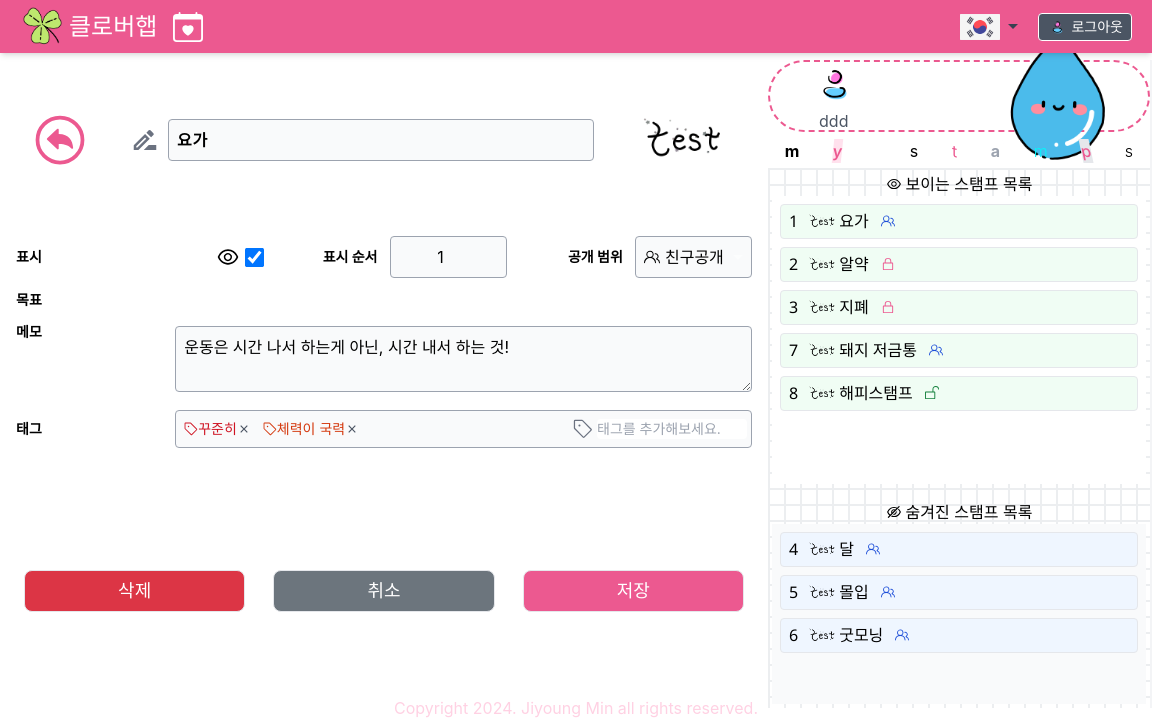
Test case: UserStamp Update Page › 본인 스탬프인 경우 › 삭제 버튼 확인(성공)
Check: the element with id "displayUserStampList" shows "요가", box x1=772 y1=196 x2=1146 y2=484
Note: 삭제 버튼 클릭
Click the button with id "userStamp-deleteButton": (135, 591) x1=24 y1=570 x2=245 y2=612
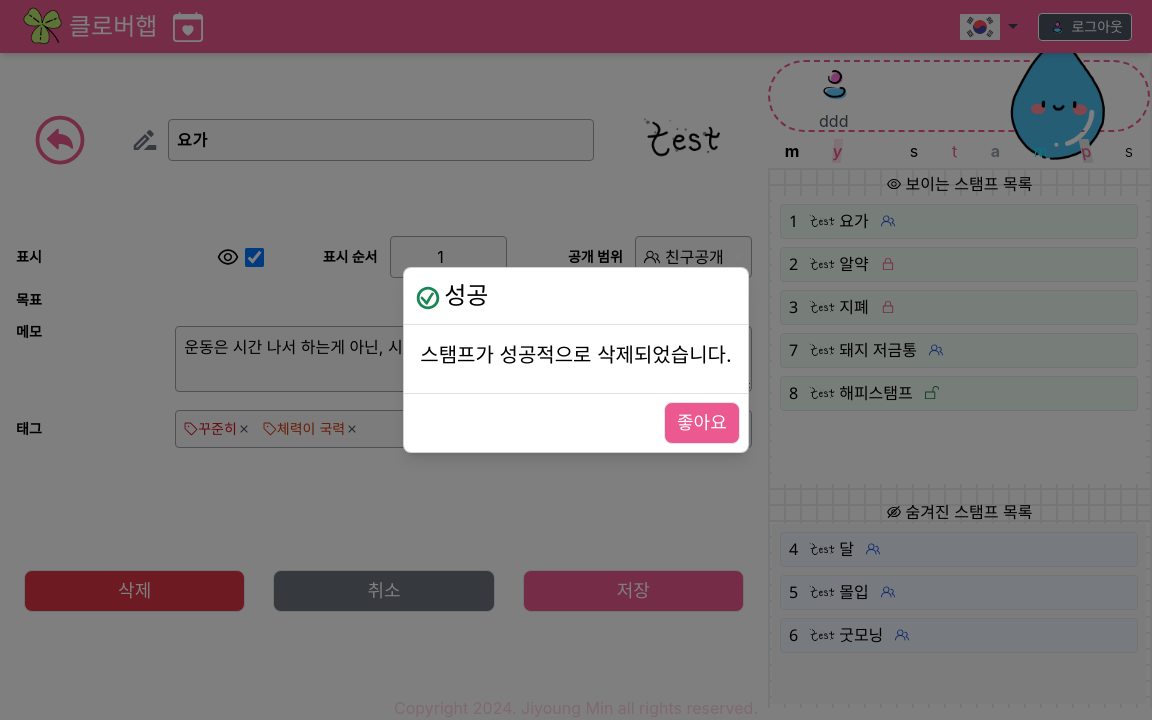
Click the button with id "commonDialog-ok": (702, 423) x1=664 y1=402 x2=740 y2=444
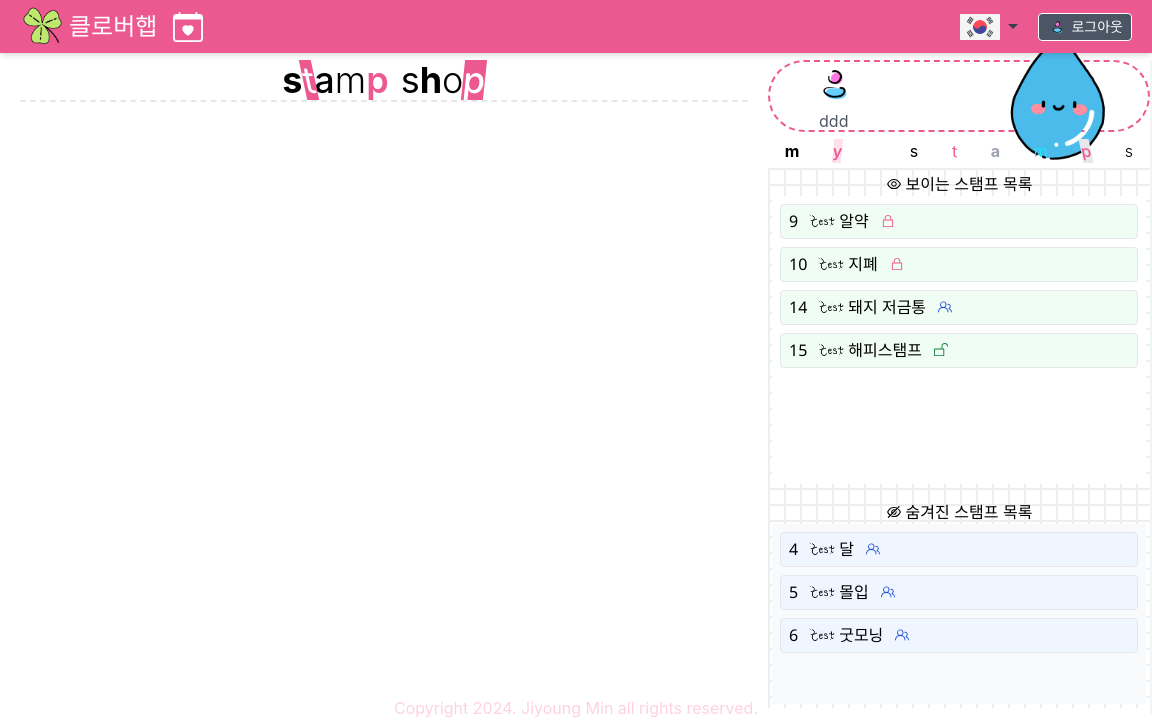
Check: the text with id "displayUserStampList" no longer shows "요가"
